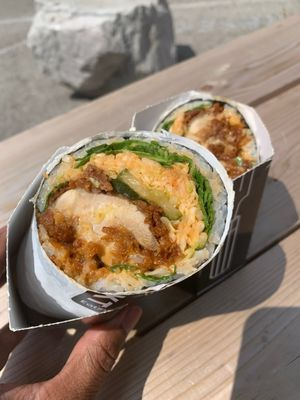sushi: (131, 91, 271, 184)
